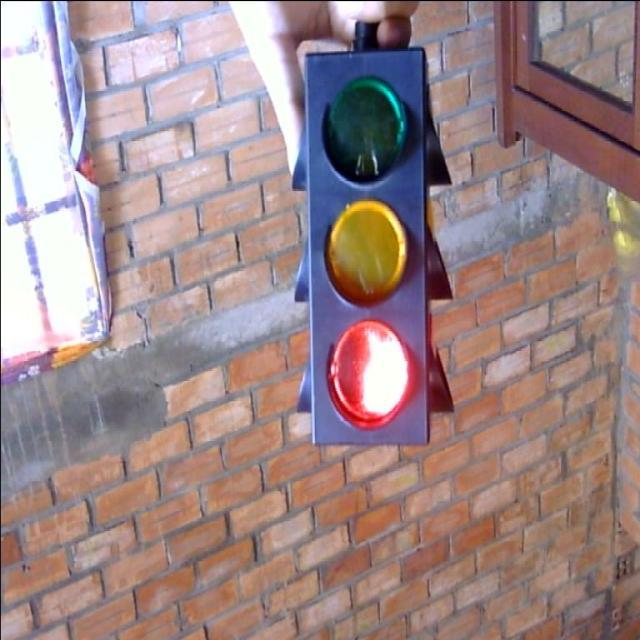red light: (318, 313, 424, 442)
